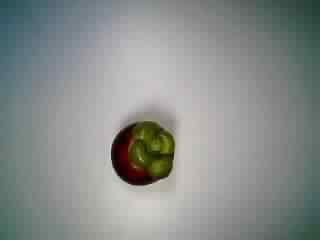mangosteen: (104, 115, 182, 191)
